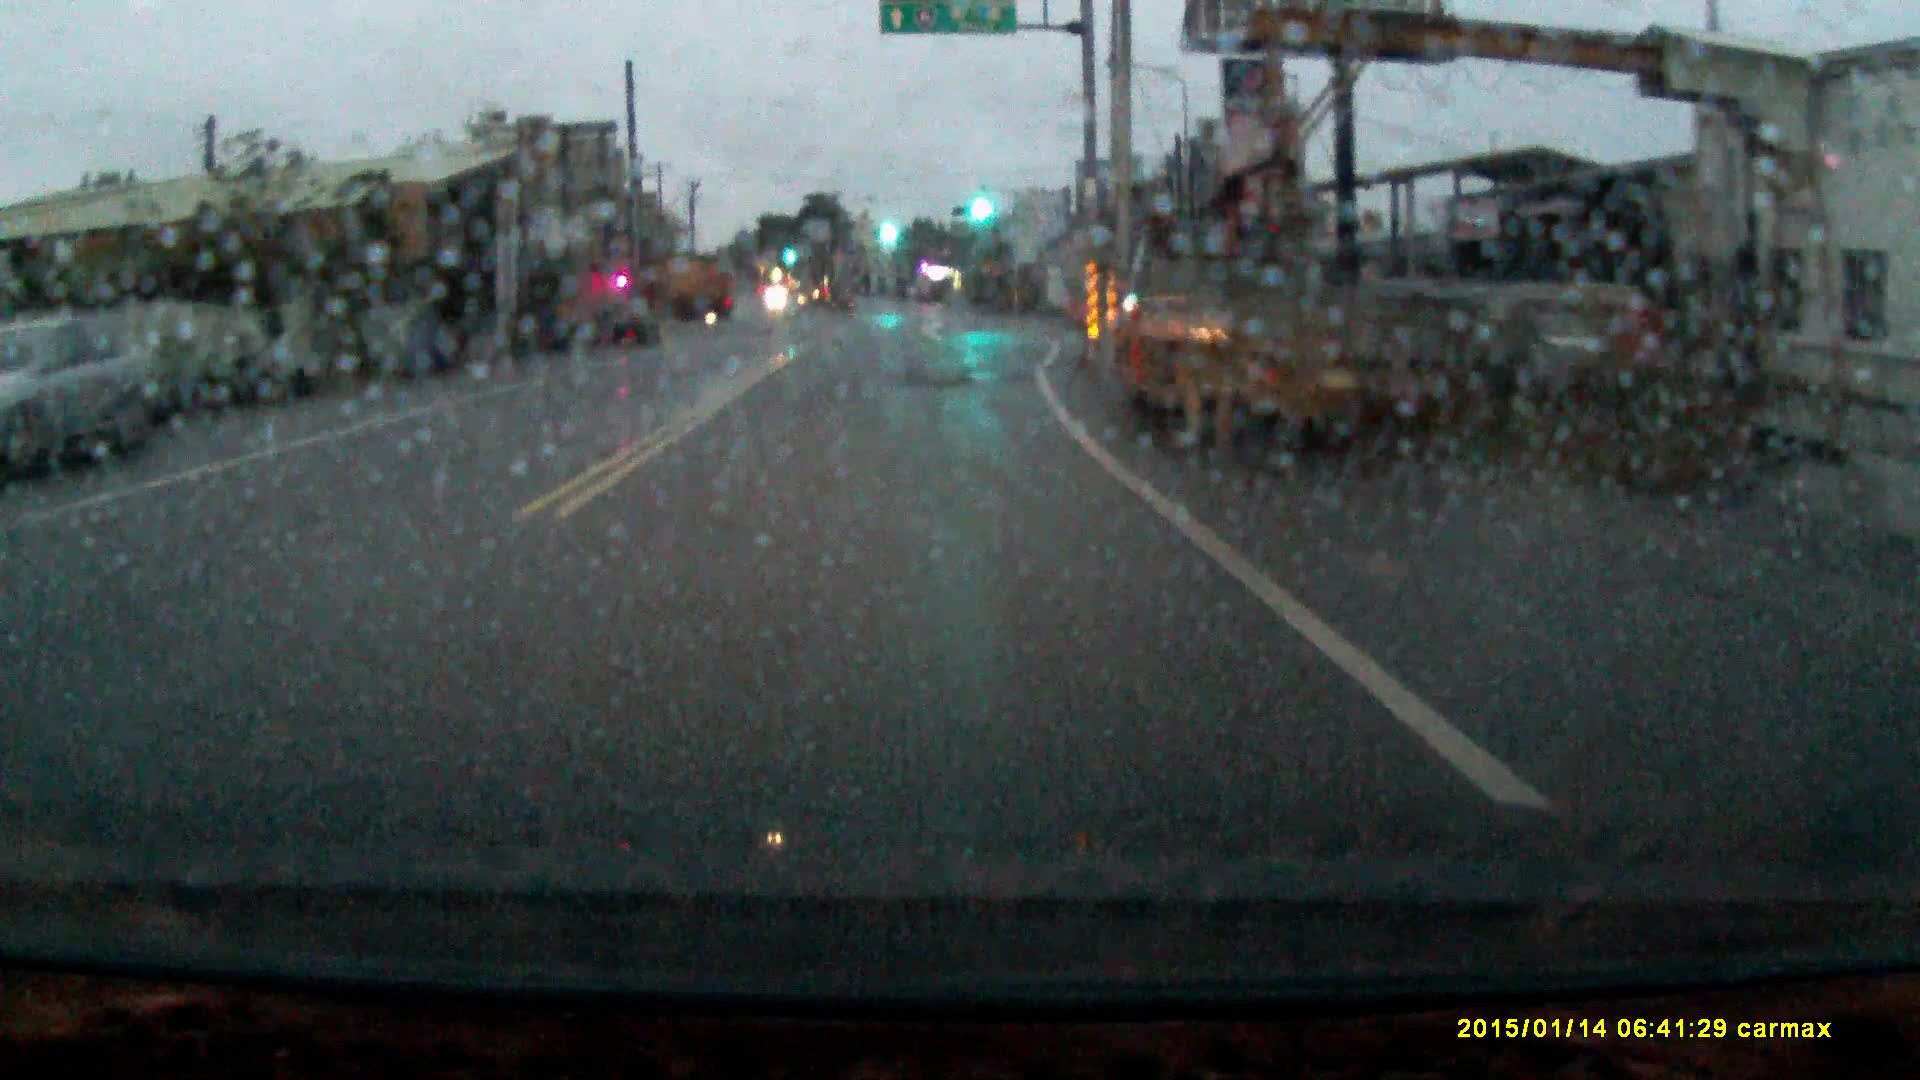vehicle: (1116, 216, 1484, 464), (642, 255, 736, 316)
